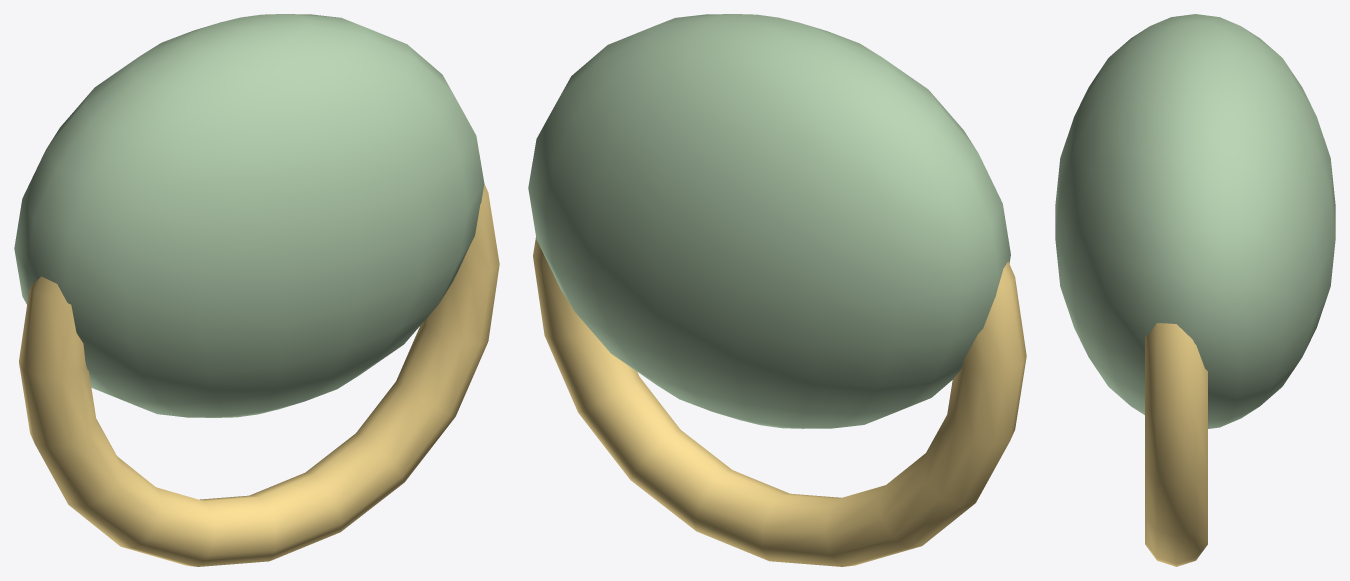
The model's file is turtle_shell.glb.
3 views of the same model, side by side, from view 1: azimuth 30°, elevation 25°; view 2: azimuth 150°, elevation 25°; view 3: azimuth 270°, elevation 25° (orthographic). The views are drawn at different scales.
Visible parts, largest first — view 1: Turtle Shell; view 2: Turtle Shell; view 3: Turtle Shell.
Part boxes in pixels (x1=…): Turtle Shell: x1=14, y1=14, x2=499, y2=566; Turtle Shell: x1=528, y1=14, x2=1026, y2=566; Turtle Shell: x1=1055, y1=14, x2=1335, y2=566.
Size of the model in its own units: 0.55 by 0.585 by 0.2954.
